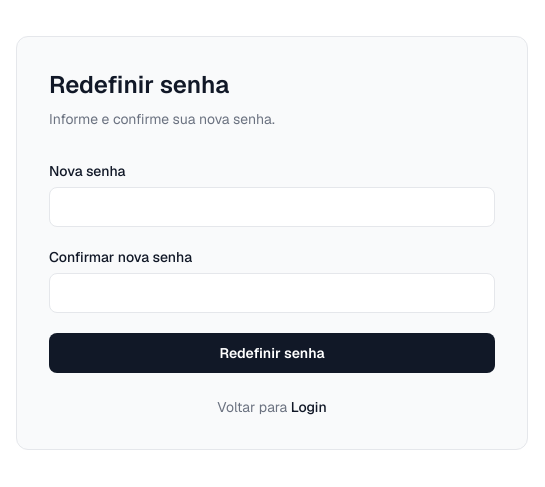
ResetPasswordPage › deve rejeitar senha com menos de 8 caracteres
Type "1234567" into the password field labelled "Nova senha" at (272,207), box [49,187,495,227]
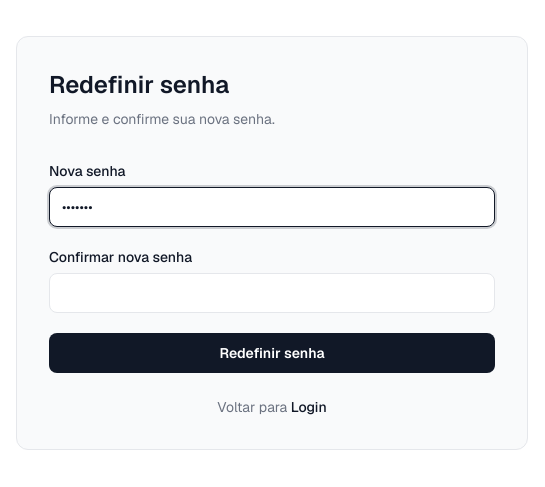
Type "1234567" into the password field labelled "Confirmar nova senha" at (272,293), box [49,273,495,313]
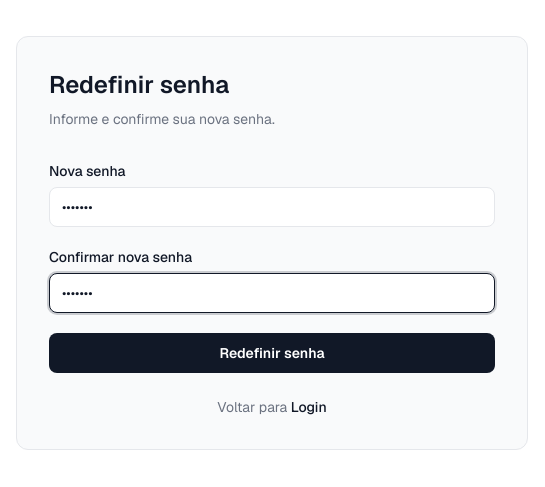
Click the button "Redefinir senha" at (272,353), box [49,333,495,373]
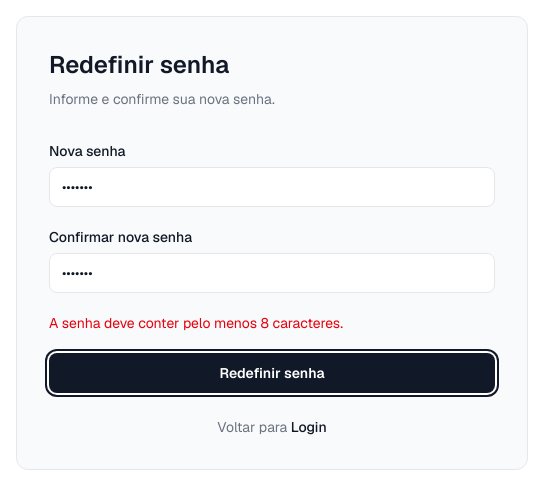
Check: the message reads "A senha deve conter pelo menos 8 caracteres.", box [49,314,343,332]
